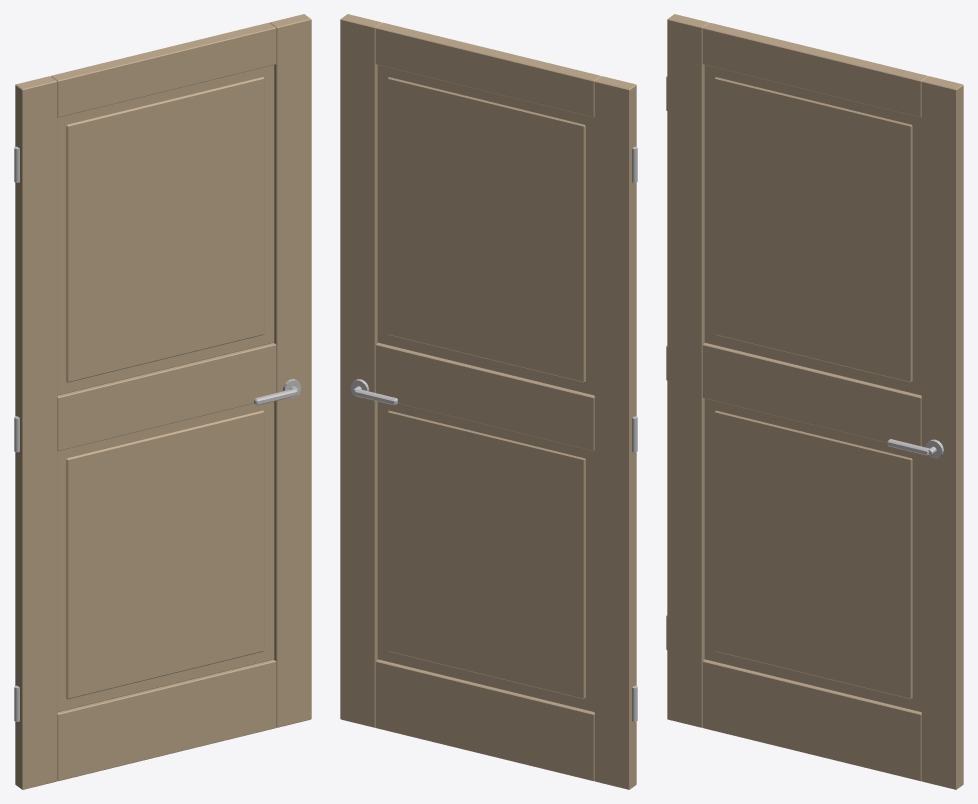
The model's file is door-leaf-panel.glb.
3 renders of one model, left to right at view 1: azimuth 30°, elevation 25°; view 2: azimuth 150°, elevation 25°; view 3: azimuth 330°, elevation 25°, orthographic.
Visible parts, largest first — view 1: leaf.008, leaf.006, leaf, leaf.001, leaf.003, leaf.004, leaf.007, leaf.002, leaf.005; view 2: leaf.008, leaf.006, leaf, leaf.001, leaf.003, leaf.004, leaf.007, leaf.002, leaf.005; view 3: leaf.008, leaf.006, leaf.001, leaf, leaf.003, leaf.004, leaf.007, leaf.002, leaf.005.
Boxes of the visible parts, bbox=[...] form: leaf.008: bbox=[66, 77, 264, 382]; leaf.006: bbox=[66, 410, 264, 699]; leaf: bbox=[15, 76, 57, 789]; leaf.001: bbox=[270, 14, 311, 727]; leaf.003: bbox=[57, 659, 276, 781]; leaf.004: bbox=[57, 343, 276, 450]; leaf.007: bbox=[57, 65, 274, 395]; leaf.002: bbox=[51, 22, 276, 117]; leaf.005: bbox=[57, 401, 274, 712]; leaf.008: bbox=[387, 77, 585, 382]; leaf.006: bbox=[387, 410, 585, 699]; leaf: bbox=[594, 76, 636, 789]; leaf.001: bbox=[340, 14, 381, 727]; leaf.003: bbox=[375, 659, 594, 781]; leaf.004: bbox=[375, 343, 594, 450]; leaf.007: bbox=[377, 65, 594, 395]; leaf.002: bbox=[375, 22, 600, 117]; leaf.005: bbox=[377, 401, 594, 712]; leaf.008: bbox=[714, 77, 912, 382]; leaf.006: bbox=[714, 410, 912, 699]; leaf.001: bbox=[921, 76, 963, 789]; leaf: bbox=[667, 14, 708, 727]; leaf.003: bbox=[702, 659, 921, 781]; leaf.004: bbox=[702, 343, 921, 446]; leaf.007: bbox=[704, 65, 921, 395]; leaf.002: bbox=[702, 22, 927, 117]; leaf.005: bbox=[704, 398, 921, 712].
Size of the model in its own units: 0.912 by 2.08 by 0.118.
